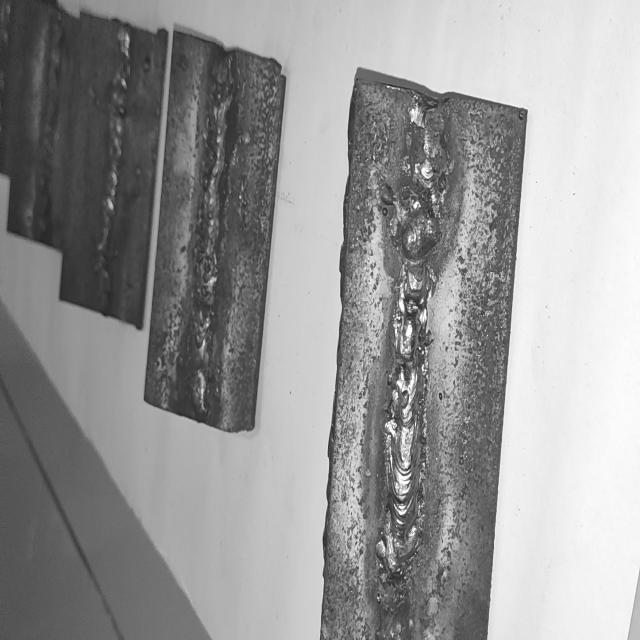Defect: (392, 95, 449, 284), (387, 256, 433, 389), (373, 528, 417, 640), (205, 48, 240, 172)
Welding Line: (378, 90, 438, 640), (184, 46, 237, 423), (92, 22, 134, 316), (28, 7, 61, 243)
Workpiece: (314, 68, 534, 640), (143, 16, 290, 440), (56, 8, 173, 337), (4, 2, 82, 257)
